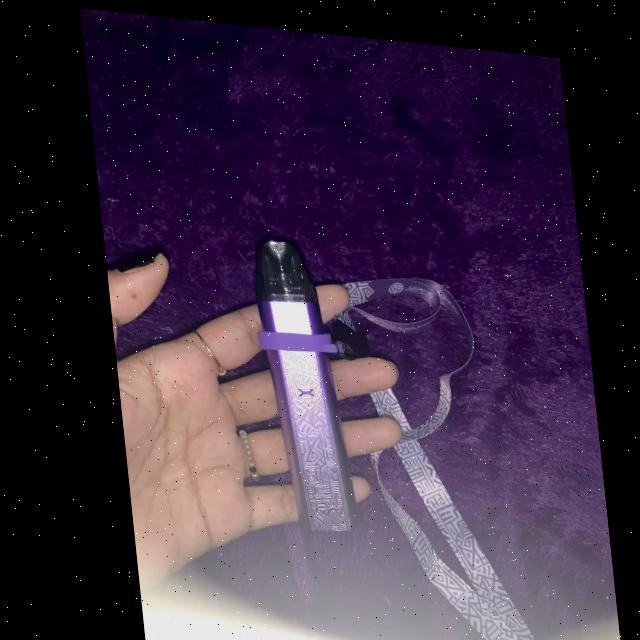vape: (241, 228, 350, 537)
